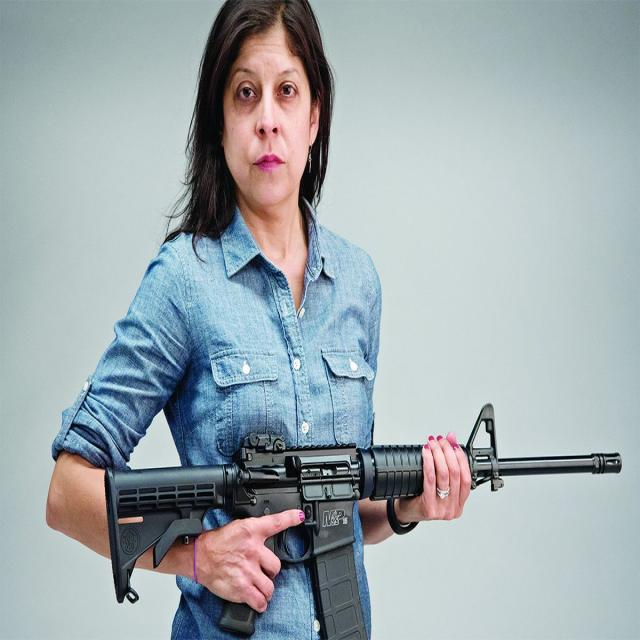Rifle: (107, 434, 425, 640), (462, 404, 622, 492)
